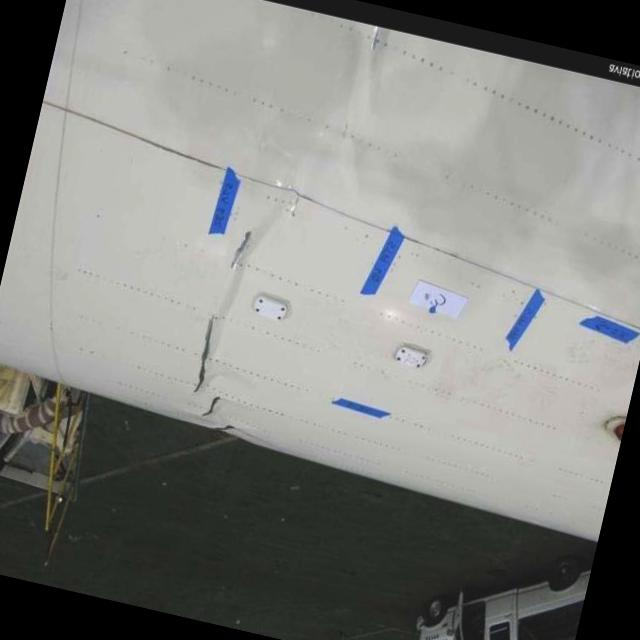crack: (187, 314, 221, 398), (198, 392, 226, 421)
